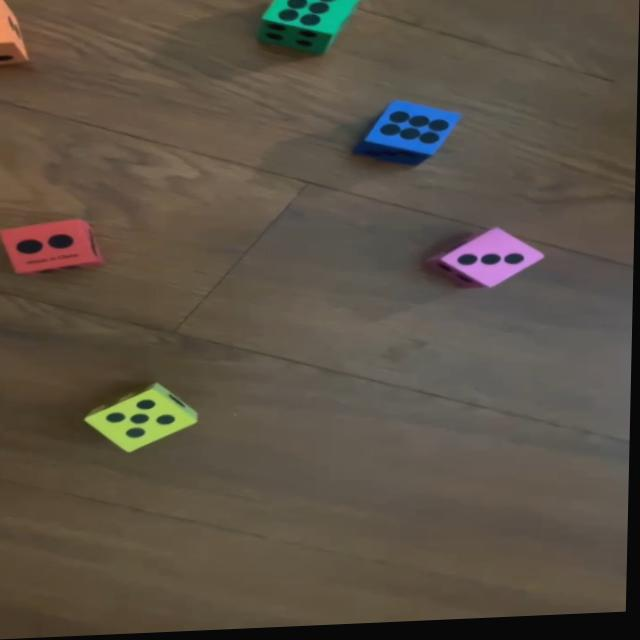blue_block: (355, 101, 462, 170)
red_block: (0, 219, 106, 278)
